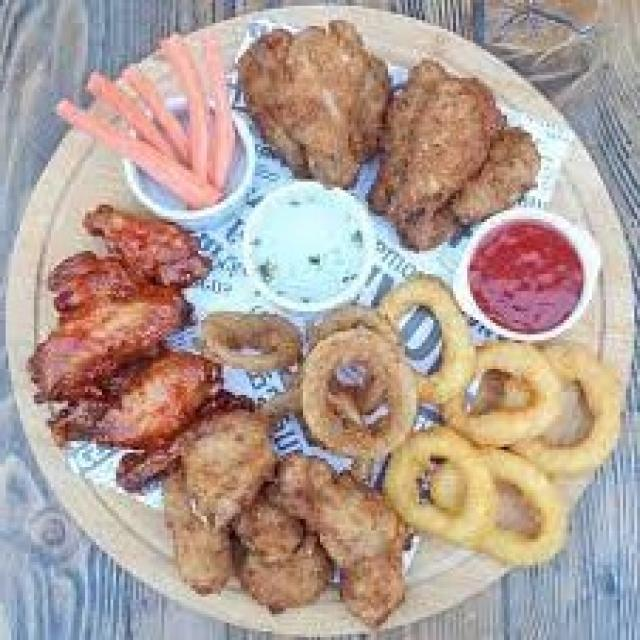Chicken Wings: (34, 196, 413, 634), (230, 15, 550, 236)
Onion Rings: (198, 282, 615, 568)
